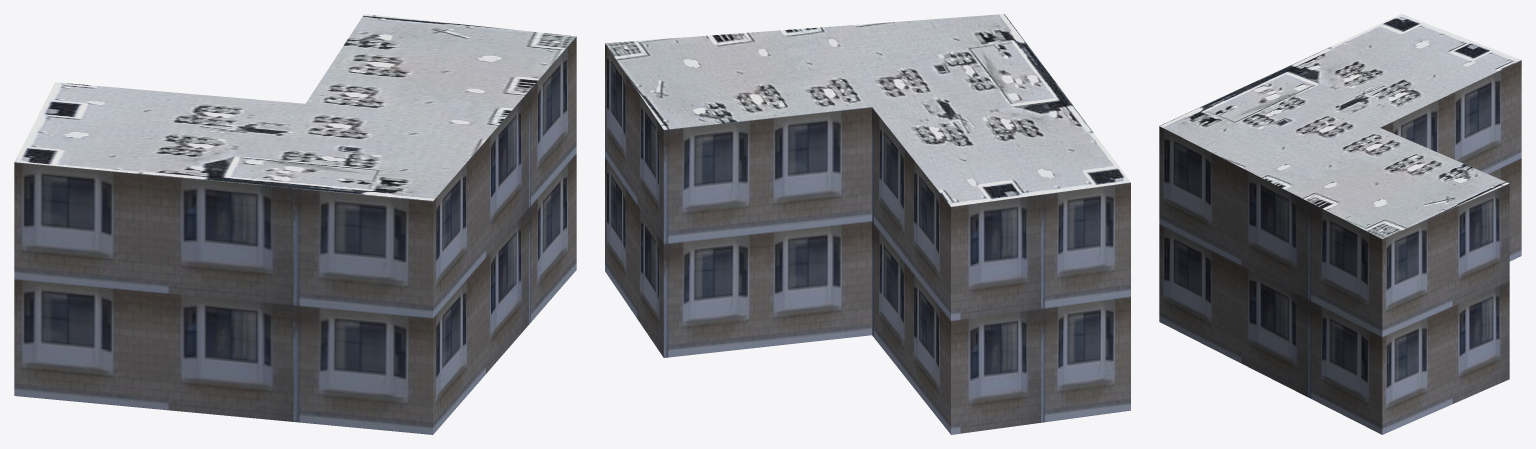
Rendered from ResTex__4829.fbx.
3 renders of one model, left to right at view 1: azimuth 30°, elevation 25°; view 2: azimuth 150°, elevation 25°; view 3: azimuth 270°, elevation 25°, orthographic. The views are drawn at different scales.
Visible parts, largest first — view 1: CityEngineMaterial_3_m, CityEngineMaterial_2_m; view 2: CityEngineMaterial_3_m, CityEngineMaterial_2_m; view 3: CityEngineMaterial_3_m, CityEngineMaterial_2_m.
Part boxes in pixels (x1,y1,x2,y2): CityEngineMaterial_3_m: [14, 36, 576, 434]; CityEngineMaterial_2_m: [15, 14, 575, 201]; CityEngineMaterial_3_m: [605, 43, 1130, 434]; CityEngineMaterial_2_m: [605, 14, 1130, 206]; CityEngineMaterial_3_m: [1159, 60, 1521, 434]; CityEngineMaterial_2_m: [1159, 14, 1520, 238].
Size of the model in its own units: 14.79 by 6 by 10.06.
2 materials, 2 textured.
